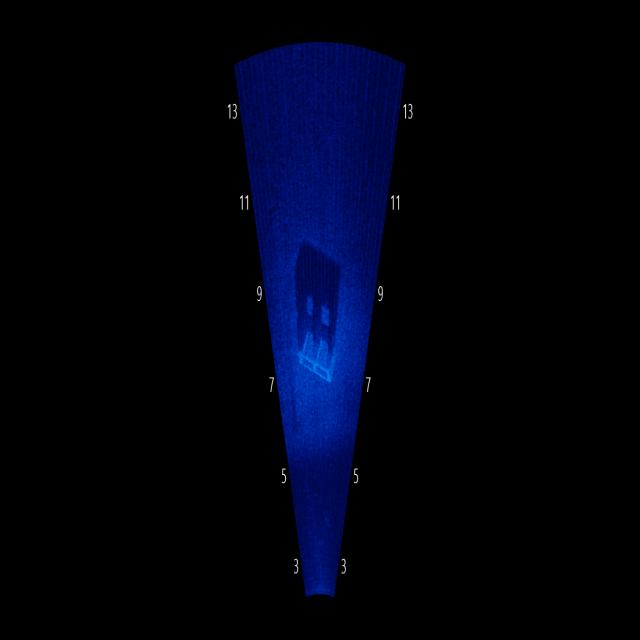square: (289, 311, 345, 395)
